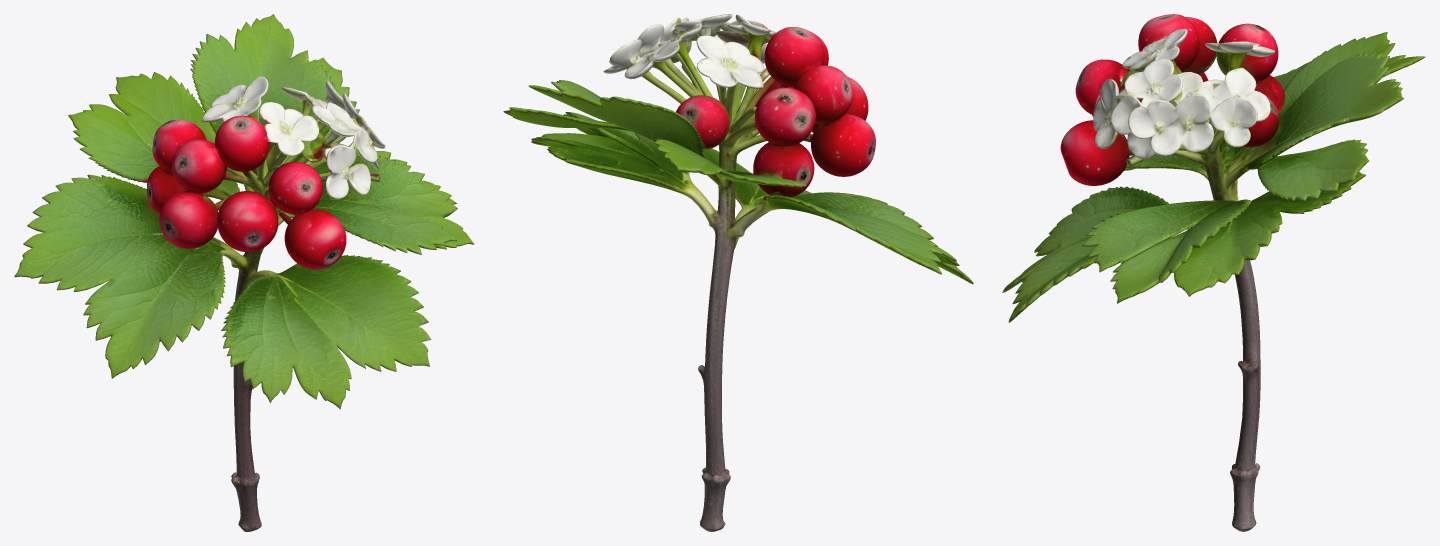
Rendered from shanzha.glb.
3 views of the same model, side by side, from view 1: azimuth 30°, elevation 25°; view 2: azimuth 150°, elevation 25°; view 3: azimuth 270°, elevation 25° (orthographic). The views are drawn at different scales.
Parts seen in each view (by area): view 1: node_0; view 2: node_0; view 3: node_0.
Part boxes in pixels (box(x1,y1,x2,y2)): node_0: box(14, 14, 474, 531); node_0: box(503, 14, 973, 531); node_0: box(1002, 14, 1425, 531).
Bounding box in the file's own units: 0.872 × 0.9215 × 0.7164.
Materials: 1 (1 with a texture image).
